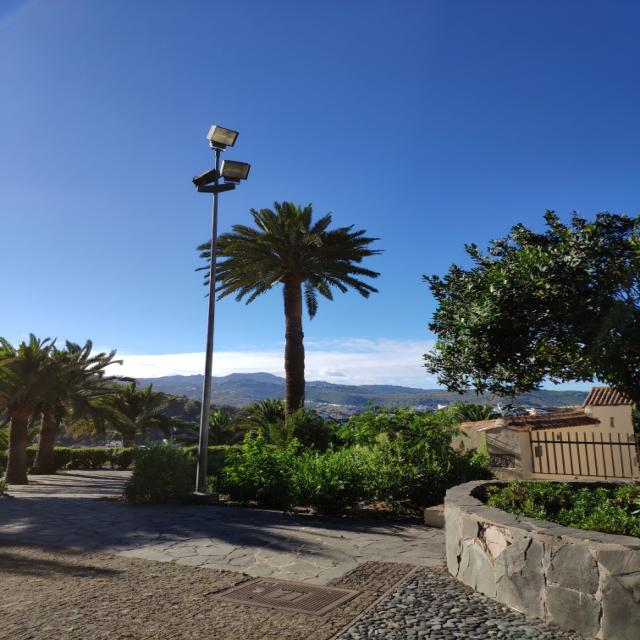Palm-Trees: (198, 198, 387, 442)
